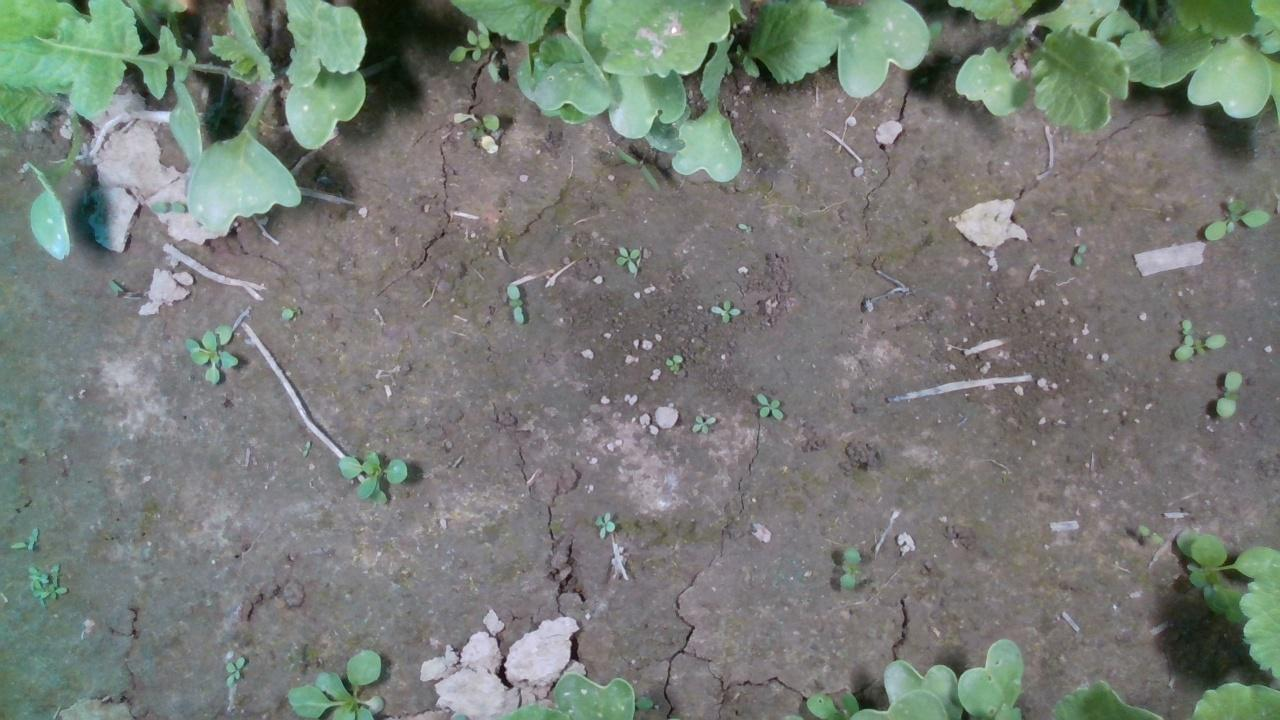weed: (1203, 197, 1271, 239), (1215, 367, 1244, 420), (837, 543, 860, 593), (503, 281, 526, 326), (706, 297, 741, 324), (754, 392, 784, 419), (615, 243, 641, 273), (592, 509, 615, 540), (1134, 523, 1163, 546), (223, 655, 246, 684), (690, 412, 718, 435)
